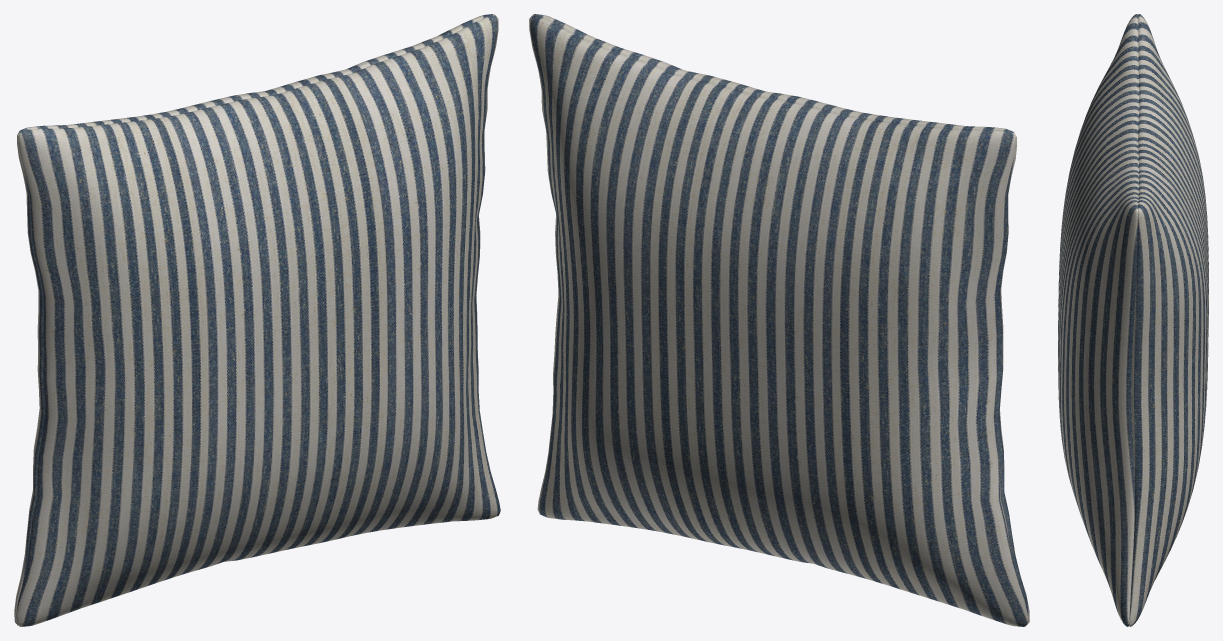
File: abo_B07MBFDS2R.glb
3 renders of one model, left to right at view 1: azimuth 30°, elevation 25°; view 2: azimuth 150°, elevation 25°; view 3: azimuth 270°, elevation 25°, orthographic. The views are drawn at different scales.
Visible parts, largest first — view 1: RootNode; view 2: RootNode; view 3: RootNode.
Boxes of the visible parts, x1,y1,x2,y2 form: RootNode: (14, 14, 500, 626); RootNode: (529, 14, 1029, 626); RootNode: (1058, 14, 1208, 626).
Bounding box in the file's own units: 0.5234 × 0.5104 × 0.166.
1 material, 1 textured.
